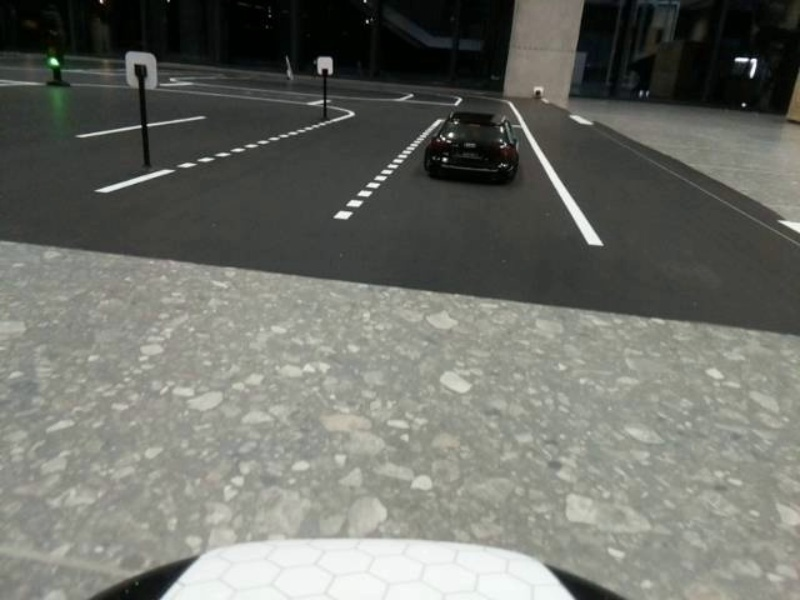car: (417, 103, 532, 189)
